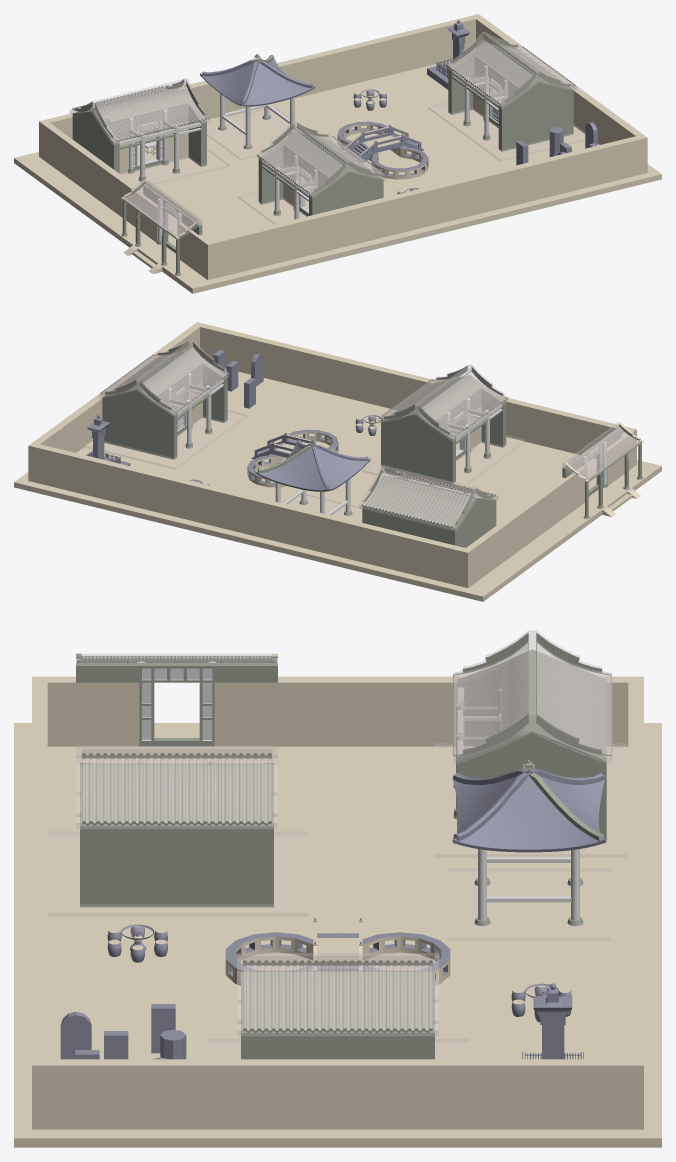
Rendered from ShuYuanFFF.fbx.
3 renders of one model, top to bottom at view 1: azimuth 30°, elevation 25°; view 2: azimuth 150°, elevation 25°; view 3: azimuth 270°, elevation 25°, orthographic. The views are drawn at different scales.
Parts seen in each view (by area): view 1: polySurface1680; view 2: polySurface1680; view 3: polySurface1680.
Part boxes in pixels (x1=…): polySurface1680: x1=14, y1=14, x2=661, y2=293; polySurface1680: x1=14, y1=322, x2=661, y2=601; polySurface1680: x1=14, y1=630, x2=661, y2=1147.
Size of the model in its own units: 1011 by 172 by 654.
